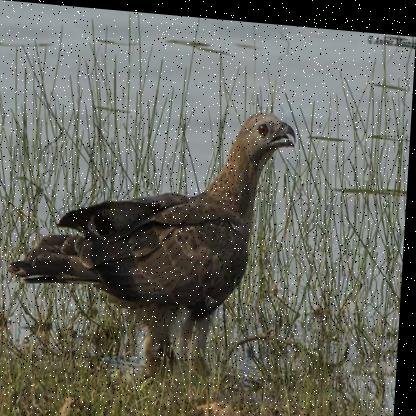Burung: (12, 88, 300, 365)
